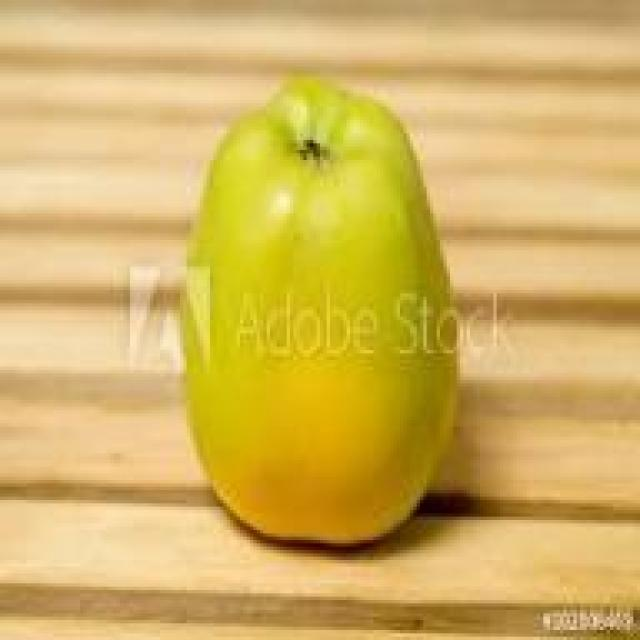apple: (187, 70, 483, 550)
